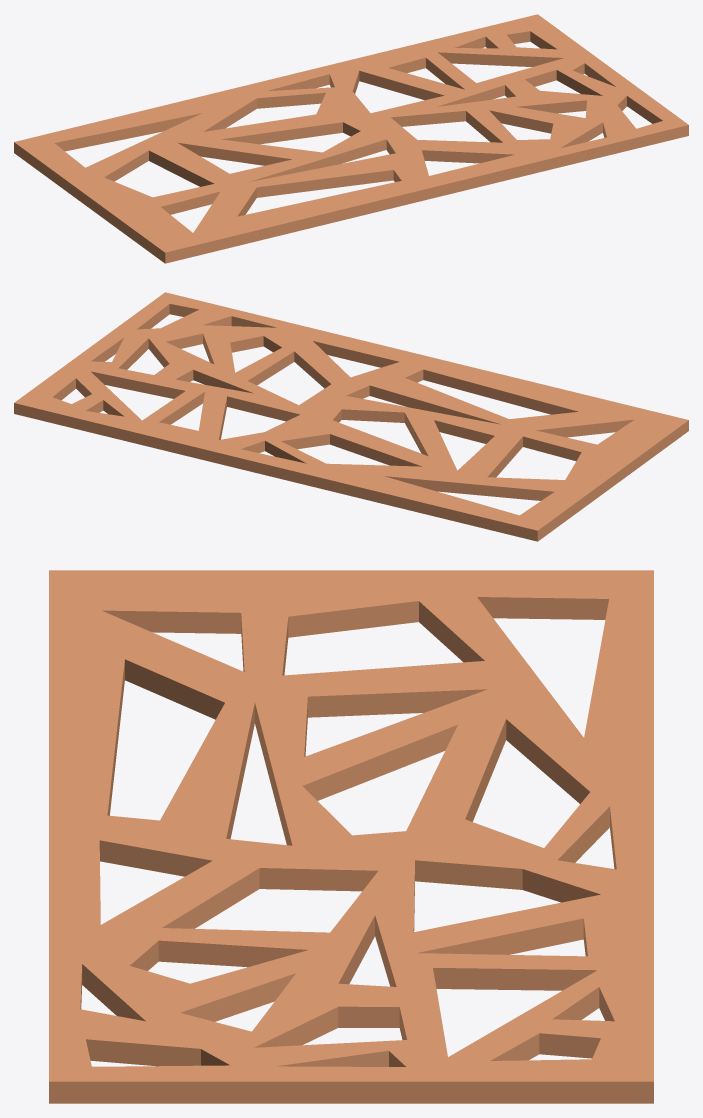
File: wood.glb
The picture shows the model from 3 angles, top to bottom: view 1: azimuth 30°, elevation 25°; view 2: azimuth 150°, elevation 25°; view 3: azimuth 270°, elevation 25°; orthographic projection. The views are drawn at different scales.
Visible parts, largest first — view 1: Plane; view 2: Plane; view 3: Plane.
Boxes of the visible parts, box(x1,y1,x2,y2) form: Plane: box(14, 14, 688, 263); Plane: box(14, 292, 688, 541); Plane: box(49, 570, 653, 1103).
Bounding box in the file's own units: 2 × 0.04 × 1.
